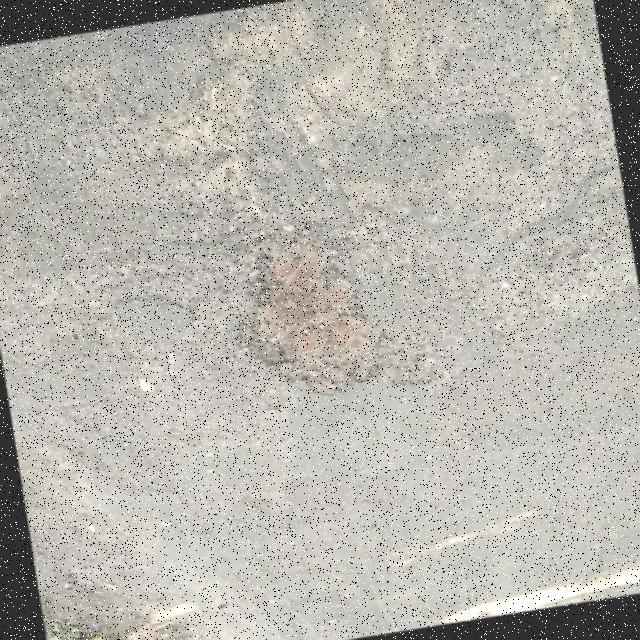Pothole: (254, 235, 433, 395)
